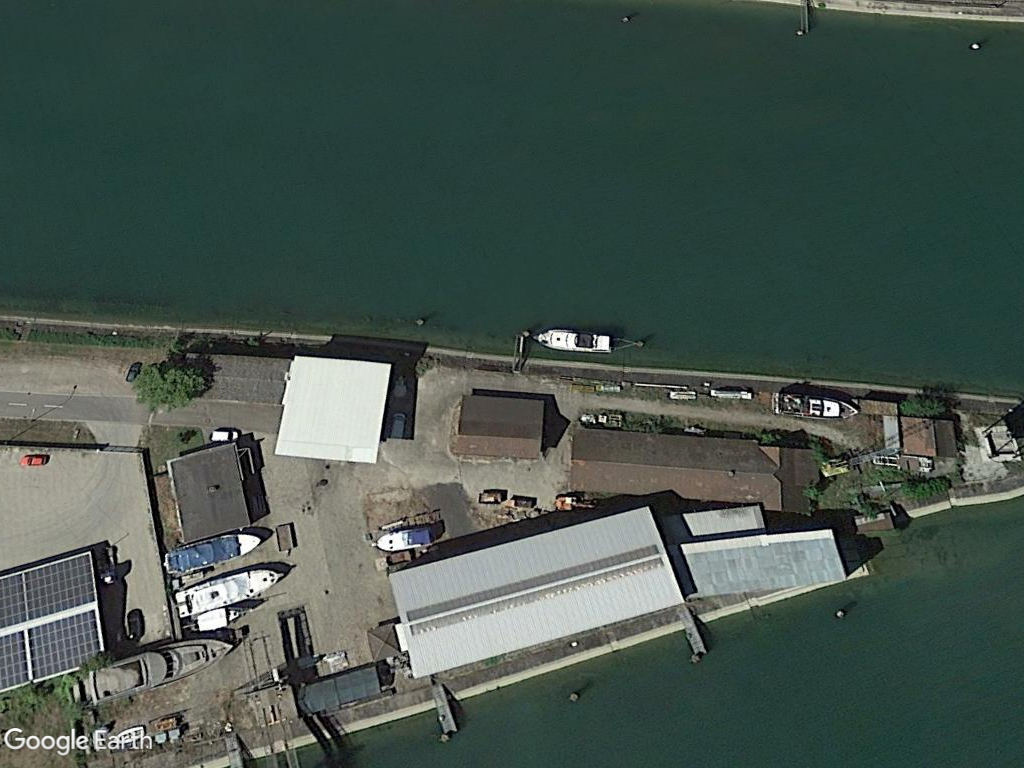boat: (71, 627, 239, 713), (170, 561, 290, 620), (157, 522, 264, 577), (521, 319, 618, 360), (765, 386, 863, 423), (374, 517, 434, 554)
